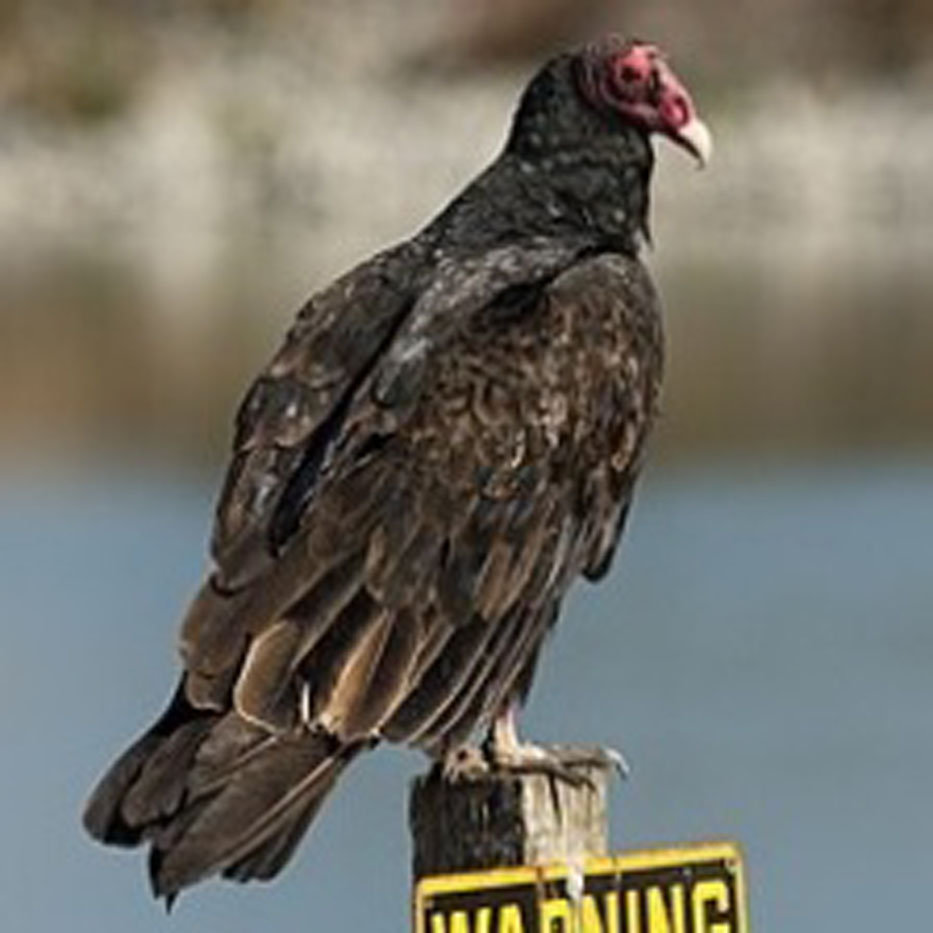Pengoyak Daging: (667, 119, 729, 181)
